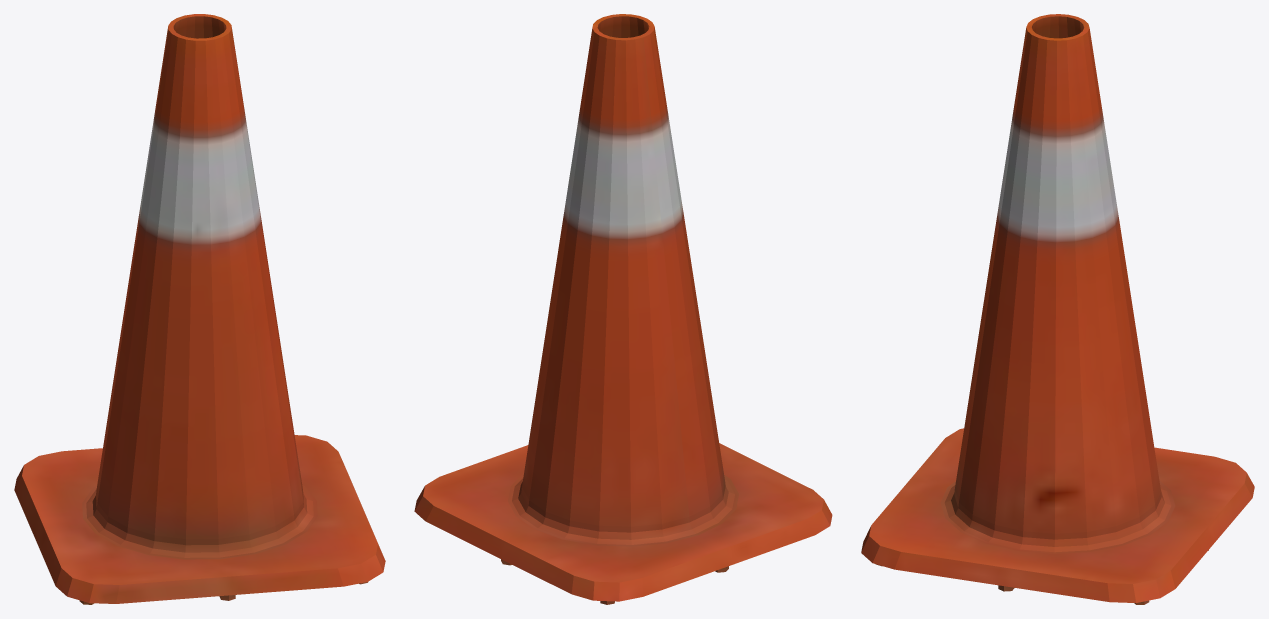
3 renders of one model, left to right at view 1: azimuth 30°, elevation 25°; view 2: azimuth 150°, elevation 25°; view 3: azimuth 270°, elevation 25°, orthographic. The views are drawn at different scales.
Parts seen in each view (by area): view 1: geometry_0; view 2: geometry_0; view 3: geometry_0.
Boxes of the visible parts, x1,y1,x2,y2 form: geometry_0: (14,14,385,604); geometry_0: (414,14,832,604); geometry_0: (861,14,1254,604).
Size of the model in its own units: 0.3421 by 0.4797 by 0.3421.
Materials: 1 (1 with a texture image).
